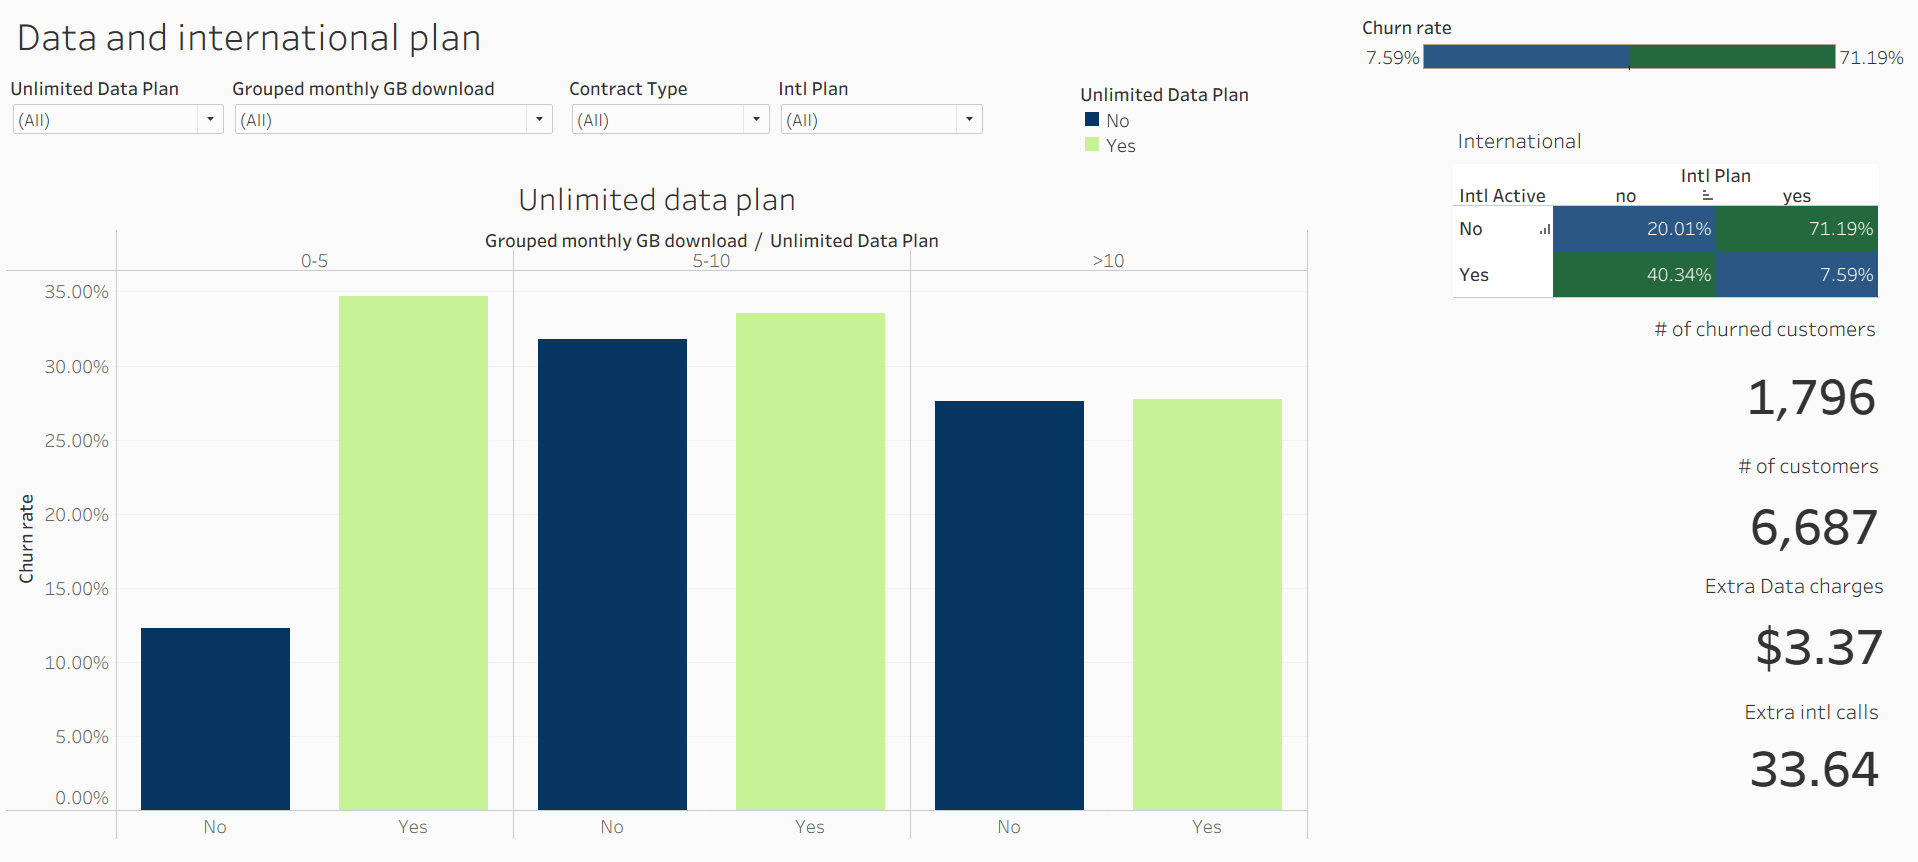

This screenshot's page, from the dashboard's own definition file:
{"tool":"tableau","page":{"name":"Dashboard 1","canvas":[650,860],"ordinal":1},"visuals":[{"type":"worksheet","title":"Sheet 1","mark":"Automatic","rows":["ProductCategory"],"cols":["Profit"],"box":[8,10.6,496,419.4]},{"type":"legend","title":"Sheet 1","param":"[federated.0u5ukot1wtvmcq1a25kyg0m47yp6].[none:ProductSubcategory:nk]","box":[504,10.6,138,344.3]},{"type":"legend","title":"Sheet 2","param":"[federated.0u5ukot1wtvmcq1a25kyg0m47yp6].[yr:Date:ok]","box":[504,354.9,138,118.3]},{"type":"worksheet","title":"Sheet 2","mark":"Bar","rows":["Profit"],"cols":["ProductCategory","Date"],"box":[8,430,496,419.4]}]}

Visuals, with their boxes on the page's 650x860 design canvas (x1, y1, x2, y2). These are canvas units, not pixel positions in the 1918x862 screenshot, which may show the page scaled, cropped or inside an application window:
"Sheet 1" worksheet: {"x1": 8, "y1": 11, "x2": 504, "y2": 430}
"Sheet 1" legend: {"x1": 504, "y1": 11, "x2": 642, "y2": 355}
"Sheet 2" legend: {"x1": 504, "y1": 355, "x2": 642, "y2": 473}
"Sheet 2" worksheet (Bar marks): {"x1": 8, "y1": 430, "x2": 504, "y2": 849}
